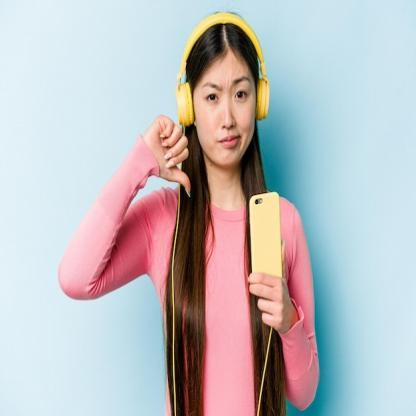thumb_down: (140, 112, 194, 200)
